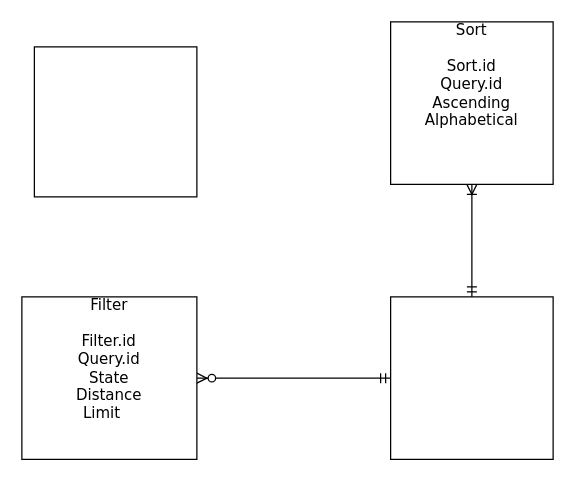
Image size: 575x481. Some labels were removed from this diagram. The centre of each missing label's shape, as x and y in pixels:
Android's App: Contact RawContact.id Location.id: (x=115, y=121)
Query Query.id Contact: (x=471, y=377)
